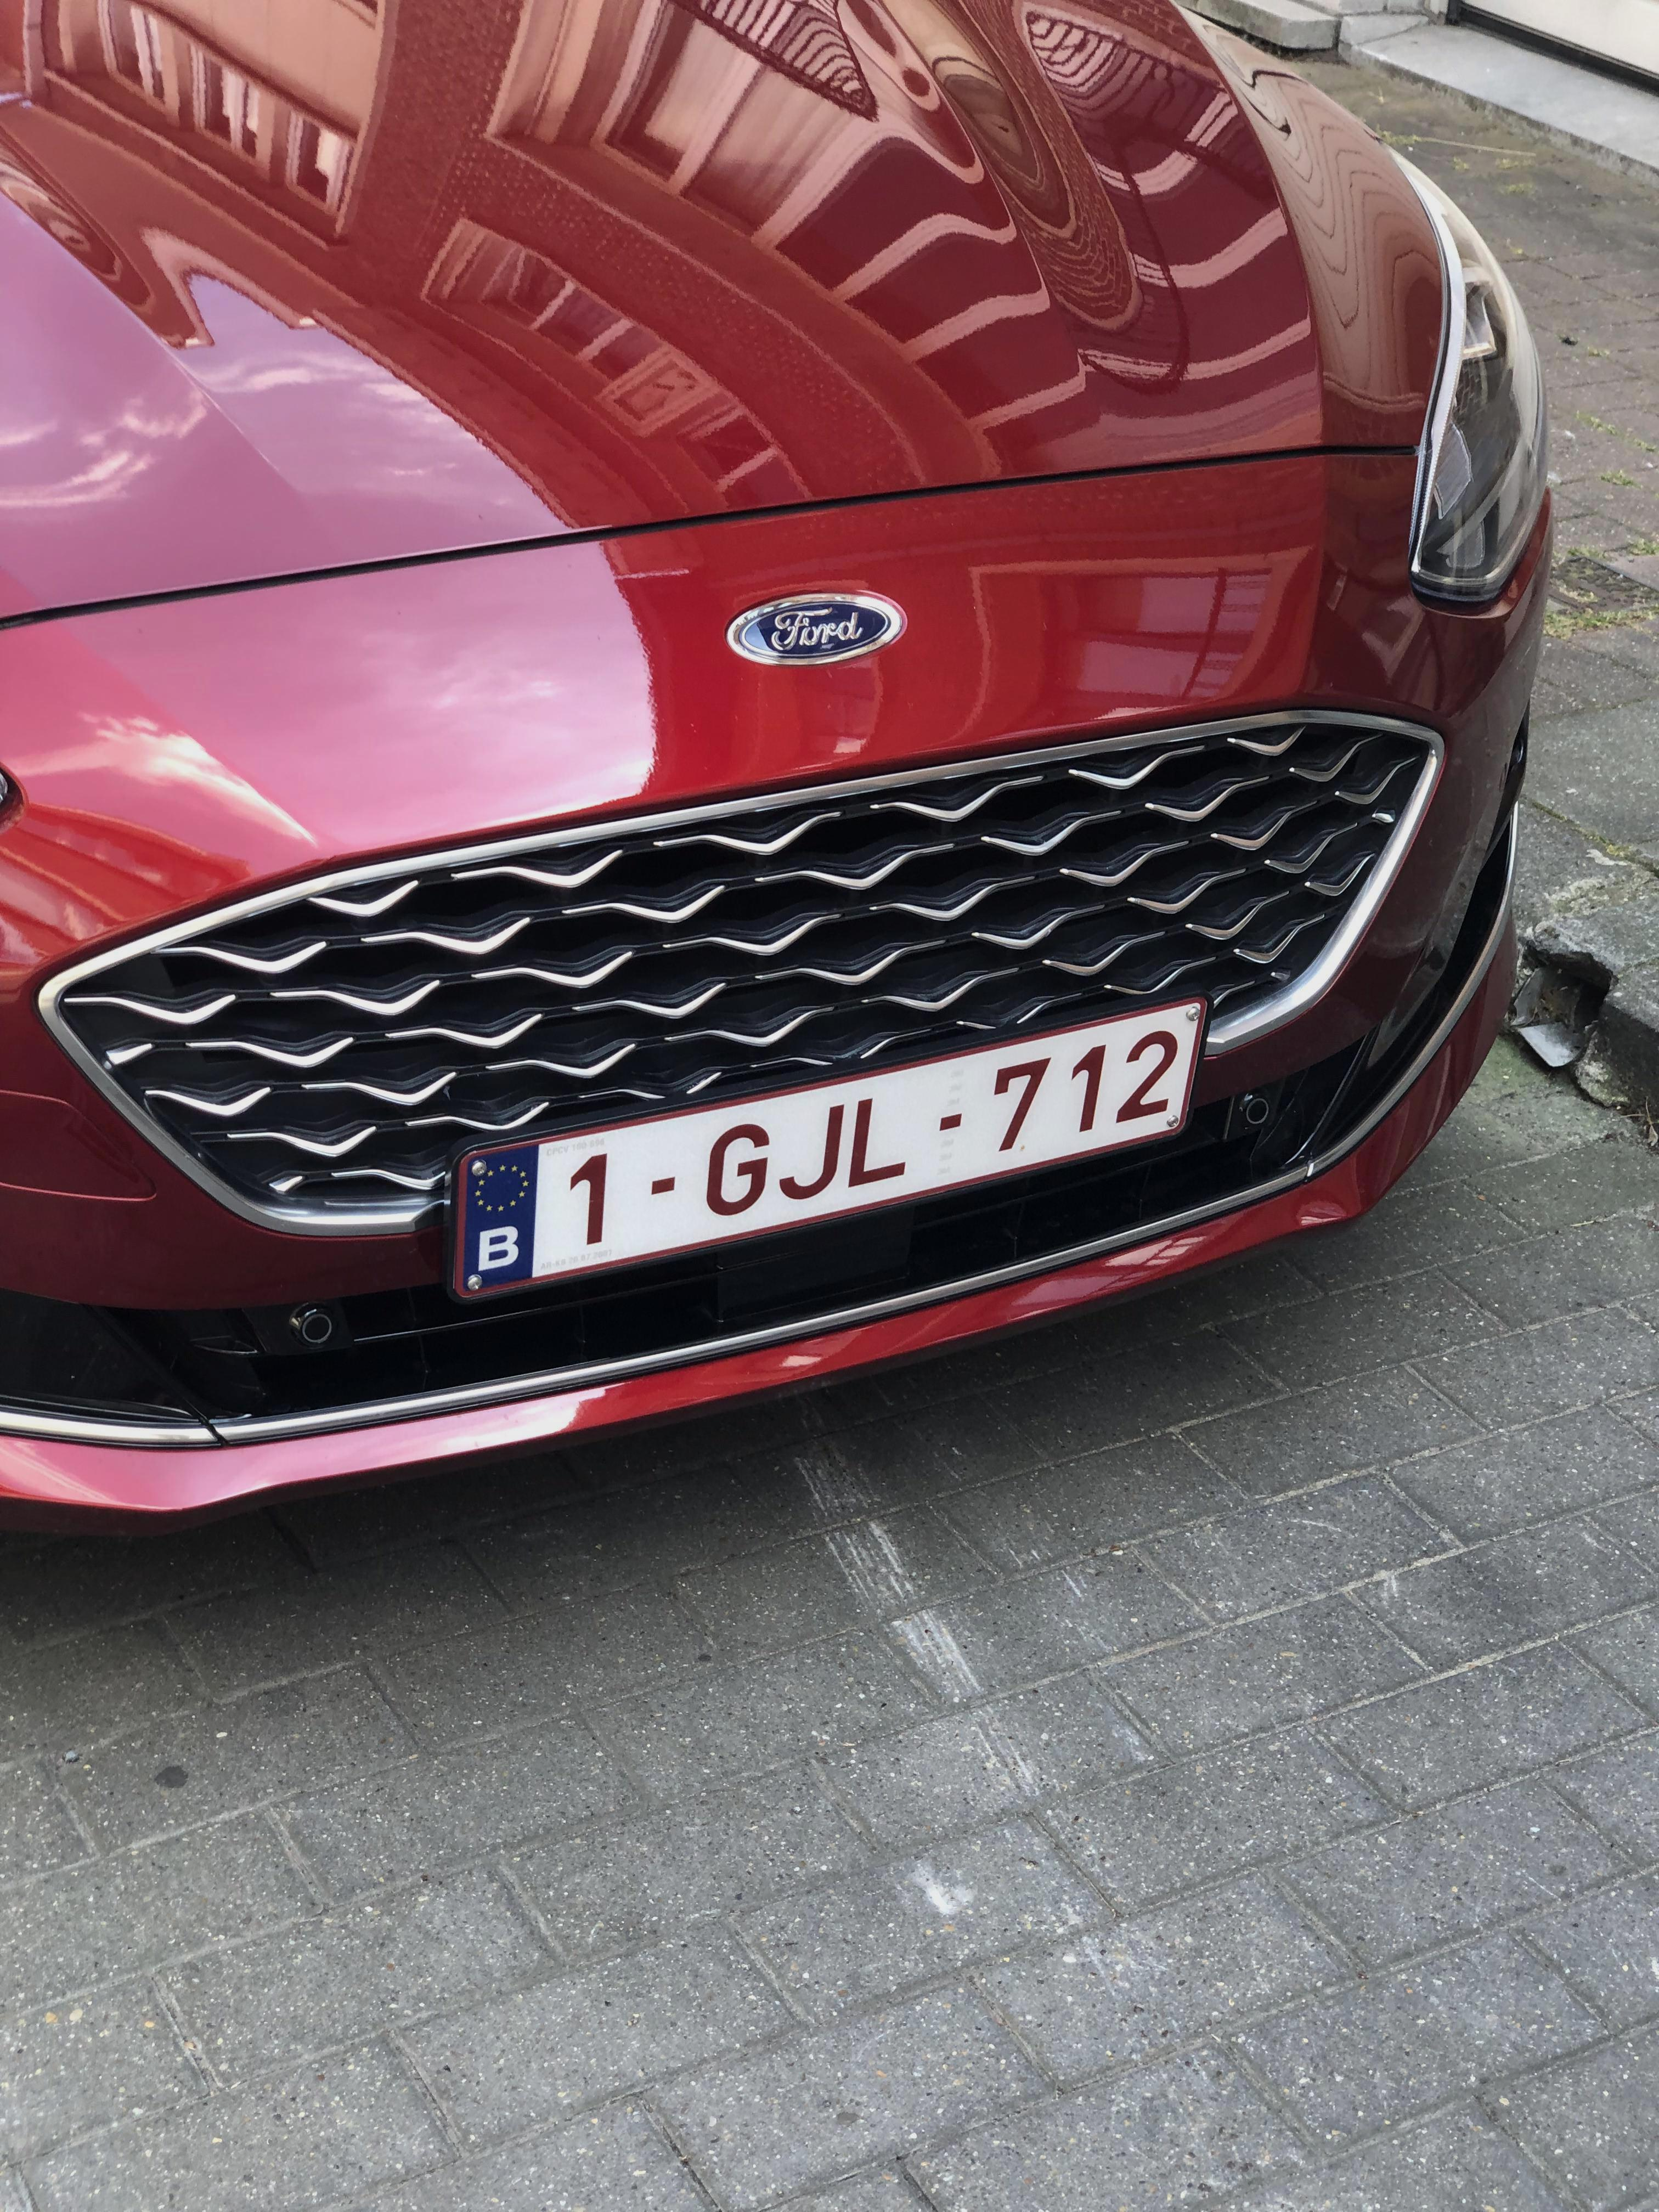plate: (453, 981, 1221, 1313)
